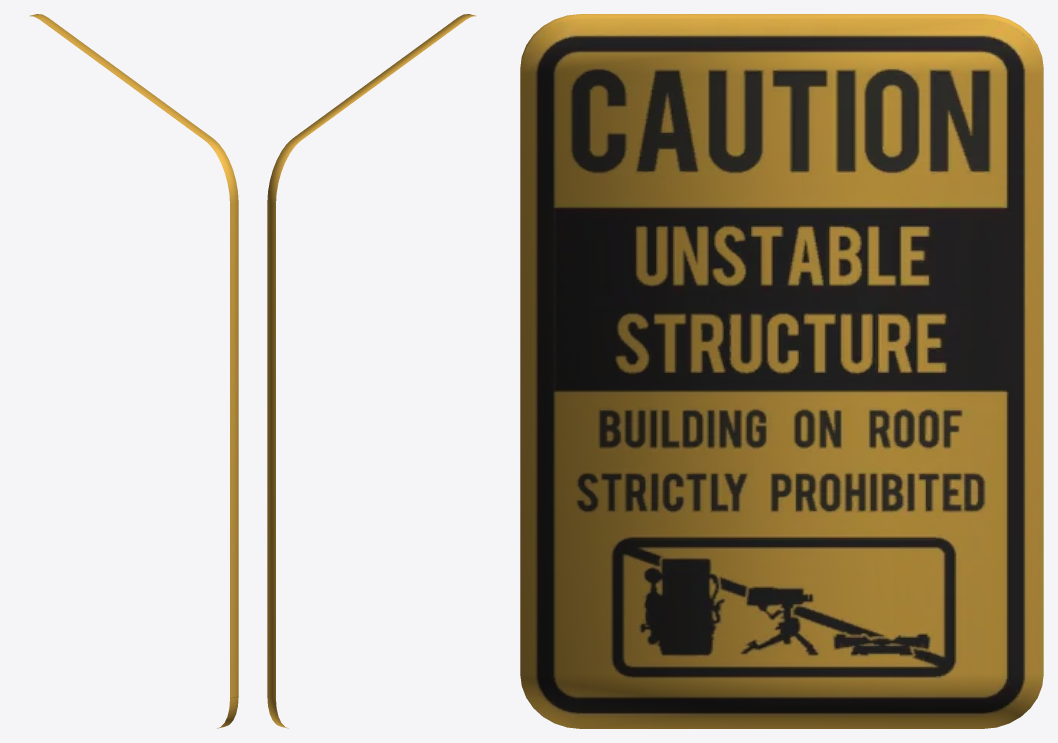
3 renders of one model, left to right at view 1: azimuth 30°, elevation 25°; view 2: azimuth 150°, elevation 25°; view 3: azimuth 270°, elevation 25°, orthographic. The views are drawn at different scales.
Parts seen in each view (by area): view 1: body0_model0_lod0_mesh0; view 2: body0_model0_lod0_mesh0; view 3: body0_model0_lod0_mesh0.
Part boxes in pixels (x1,y1,x2,y2): body0_model0_lod0_mesh0: (29, 14, 238, 728); body0_model0_lod0_mesh0: (267, 14, 476, 728); body0_model0_lod0_mesh0: (520, 14, 1043, 728).
Size of the model in its own units: 1 by 65.08 by 43.5.
1 material, 1 textured.
